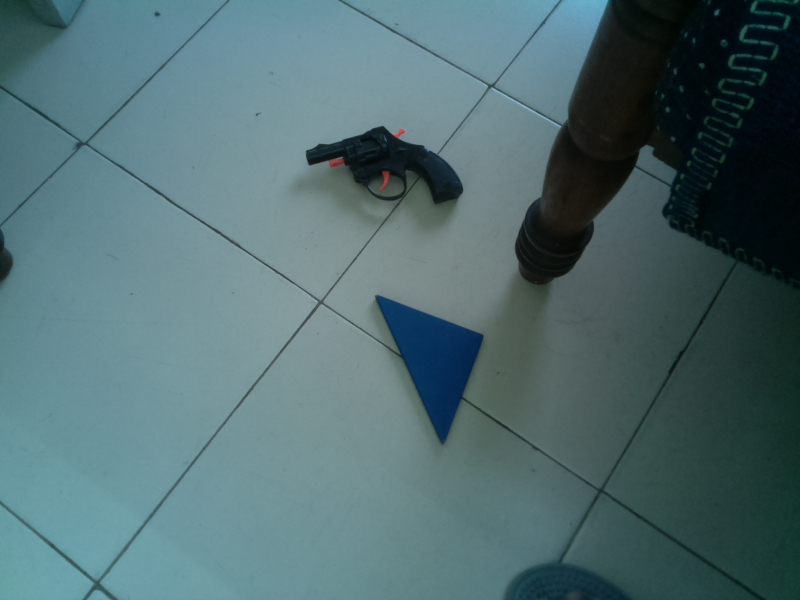Gun: (299, 123, 470, 213)
Triangle: (371, 289, 486, 447)
